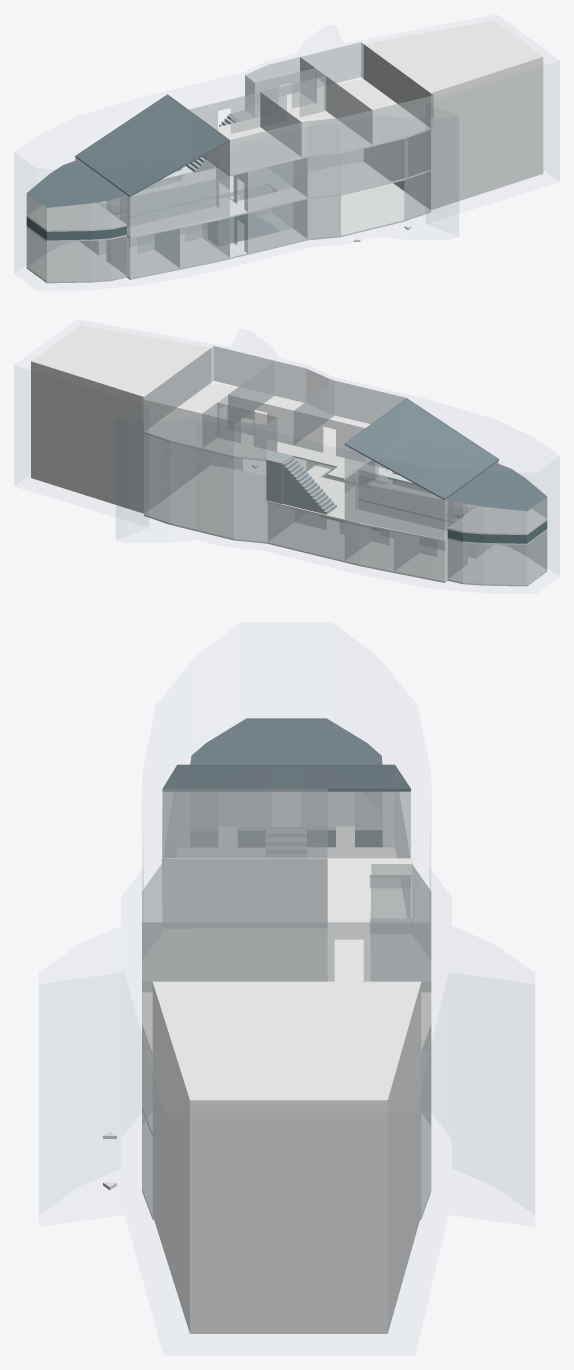
The model's file is arcturus-estructura-v25.glb.
3 renders of one model, top to bottom at view 1: azimuth 30°, elevation 25°; view 2: azimuth 150°, elevation 25°; view 3: azimuth 270°, elevation 25°, orthographic. The views are drawn at different scales.
Visible parts, largest first — view 1: SALA_MAQUINAS_BLOQUE_SOLIDO, C0_rect1-7, HANGAR_DOBLE_ALTURA, TEJADILLO_TRAPEZOIDAL_AERODINAMICO, C2_rect2-8_mamparos.001, C2_rect2_mamparos, C2_rect1_mamparos, C1_rect10-0-3_mamparos.001, C1_rect1-7, C0_rect1-7-0_mamparos, C2_rect2-8, CASCO_ARCTURUS_PAREDES (+23 smaller); view 2: SALA_MAQUINAS_BLOQUE_SOLIDO, HANGAR_DOBLE_ALTURA, TEJADILLO_TRAPEZOIDAL_AERODINAMICO, C2_rect2-8_mamparos.001, C0_rect1-7, C2_SUELO_HUELLA_ORIGINAL, C2_rect2_mamparos, C1_rect10-0-3-8_mamparos.001, C2_rect1_mamparos, C0_rect1-7-0_mamparos, C0_rect9-7, C0_rect9-9_mamparos (+23 smaller); view 3: SALA_MAQUINAS_BLOQUE_SOLIDO, C2_rect2_mamparos, C2_rect1_mamparos, C2_rect2-8_mamparos.001, MAMPARO_POSTERIOR_TEJADILLO_COMPLETO, C2_rect1, C2_rect2, C2_rect6_mamparos, TECHO_INCLINADO_PUENTE, TEJADILLO_TRAPEZOIDAL_AERODINAMICO, C2_rect9, HANGAR_DOBLE_ALTURA (+9 smaller).
Boxes of the visible parts, x1=… form: SALA_MAQUINAS_BLOQUE_SOLIDO: x1=363, y1=20, x2=543, y2=209; C0_rect1-7: x1=27, y1=162, x2=429, y2=280; HANGAR_DOBLE_ALTURA: x1=293, y1=131, x2=430, y2=238; TEJADILLO_TRAPEZOIDAL_AERODINAMICO: x1=75, y1=94, x2=229, y2=196; C2_rect2-8_mamparos.001: x1=300, y1=42, x2=433, y2=144; C2_rect2_mamparos: x1=260, y1=76, x2=372, y2=156; C2_rect1_mamparos: x1=189, y1=92, x2=301, y2=174; C1_rect10-0-3_mamparos.001: x1=127, y1=166, x2=229, y2=236; C1_rect1-7: x1=26, y1=166, x2=430, y2=241; C0_rect1-7-0_mamparos: x1=26, y1=227, x2=126, y2=281; C2_rect2-8: x1=316, y1=79, x2=430, y2=144; CASCO_ARCTURUS_PAREDES: x1=426, y1=116, x2=458, y2=223; SALA_MAQUINAS_BLOQUE_SOLIDO: x1=31, y1=325, x2=211, y2=513; HANGAR_DOBLE_ALTURA: x1=144, y1=434, x2=329, y2=542; TEJADILLO_TRAPEZOIDAL_AERODINAMICO: x1=344, y1=398, x2=498, y2=500; C2_rect2-8_mamparos.001: x1=141, y1=346, x2=274, y2=448; C0_rect1-7: x1=144, y1=466, x2=546, y2=583; C2_SUELO_HUELLA_ORIGINAL: x1=144, y1=383, x2=371, y2=479; C2_rect2_mamparos: x1=228, y1=361, x2=334, y2=445; C1_rect10-0-3-8_mamparos.001: x1=344, y1=470, x2=454, y2=539; C2_rect1_mamparos: x1=293, y1=381, x2=405, y2=462; C0_rect1-7-0_mamparos: x1=447, y1=530, x2=547, y2=584; C0_rect9-7: x1=145, y1=466, x2=267, y2=540; C0_rect9-9_mamparos: x1=267, y1=502, x2=371, y2=560; SALA_MAQUINAS_BLOQUE_SOLIDO: x1=152, y1=981, x2=421, y2=1333; C2_rect2_mamparos: x1=142, y1=859, x2=327, y2=991; C2_rect1_mamparos: x1=162, y1=788, x2=327, y2=922; C2_rect2-8_mamparos.001: x1=142, y1=922, x2=431, y2=1051; MAMPARO_POSTERIOR_TEJADILLO_COMPLETO: x1=163, y1=791, x2=410, y2=858; C2_rect1: x1=162, y1=858, x2=326, y2=921; C2_rect2: x1=142, y1=929, x2=326, y2=981; C2_rect6_mamparos: x1=370, y1=864, x2=431, y2=991; TECHO_INCLINADO_PUENTE: x1=190, y1=718, x2=382, y2=764; TEJADILLO_TRAPEZOIDAL_AERODINAMICO: x1=162, y1=764, x2=410, y2=791; C2_rect9: x1=327, y1=858, x2=412, y2=981; HANGAR_DOBLE_ALTURA: x1=142, y1=1027, x2=431, y2=1216.
Bounding box in the file's own units: 41.99 × 9.8 × 17.99.
